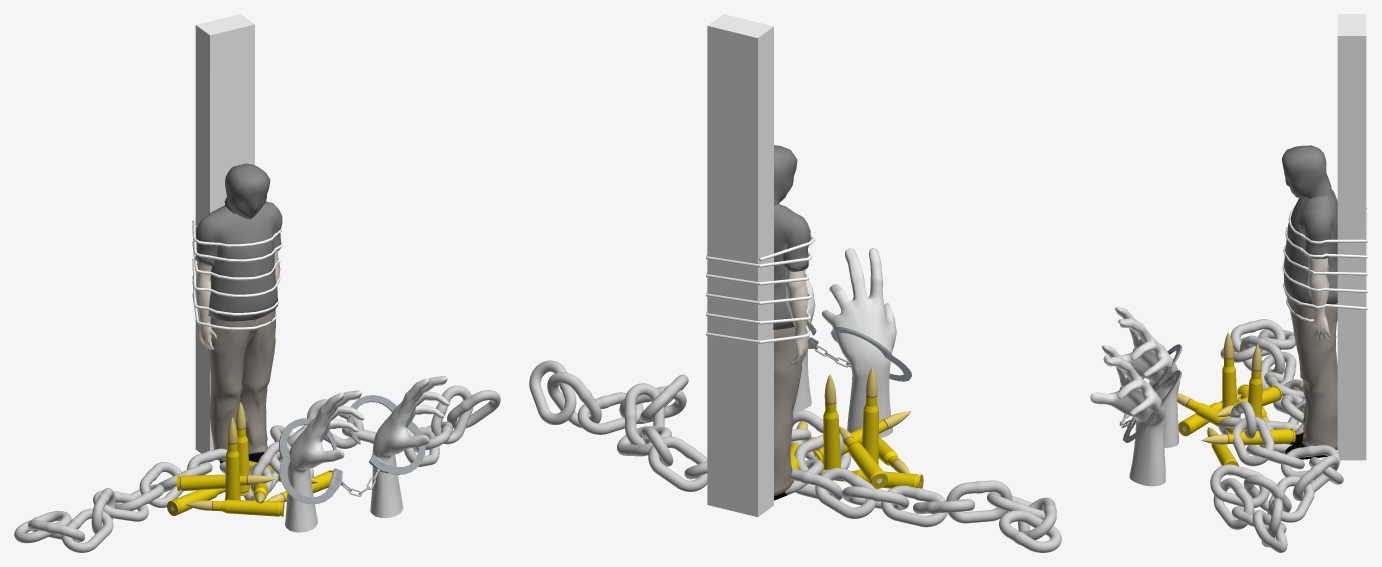
Rendered from secuestro.glb.
The picture shows the model from 3 angles, left to right: view 1: azimuth 30°, elevation 25°; view 2: azimuth 150°, elevation 25°; view 3: azimuth 270°, elevation 25°; orthographic projection. The views are drawn at different scales.
Visible parts, largest first — view 1: kidnaped, bullets, handObj, handObj.001, espo, Torus.022_Torus.023, Torus.003_Torus.004, Torus.023_Torus.024, Torus.007_Torus.008, Torus.001, Torus.004_Torus.005, Torus.000_Torus.002 (+3 smaller); view 2: kidnaped, handObj, bullets, Torus.022_Torus.023, Torus.009_Torus.010, Torus.002_Torus.003, Torus.001, Torus.006_Torus.007, Torus.005_Torus.006, Torus.023_Torus.024, Torus.019_Torus.020, Torus.021_Torus.022 (+12 smaller); view 3: kidnaped, bullets, handObj.001, handObj, Torus.018_Torus.019, espo, Torus.011_Torus.012, Torus.020_Torus.021, Torus.016_Torus.017, Torus.017_Torus.018, Torus.000_Torus.002, Torus.022_Torus.023 (+11 smaller).
Part boxes in pixels (box(x1,y1,x2,y2)): kidnaped: box(192, 14, 282, 465); bullets: box(167, 402, 332, 516); handObj: box(285, 390, 364, 532); handObj.001: box(370, 376, 449, 517); espo: box(279, 395, 425, 504); Torus.022_Torus.023: box(447, 390, 500, 428); Torus.003_Torus.004: box(61, 508, 113, 552); Torus.023_Torus.024: box(431, 385, 473, 444); Torus.007_Torus.008: box(139, 462, 182, 507); Torus.001: box(14, 511, 71, 543); Torus.004_Torus.005: box(93, 490, 148, 521); Torus.000_Torus.002: box(28, 520, 84, 542); kidnaped: box(705, 14, 815, 517); handObj: box(822, 248, 896, 437); bullets: box(790, 367, 923, 488); Torus.022_Torus.023: box(529, 360, 576, 424); Torus.009_Torus.010: box(648, 436, 707, 491); Torus.002_Torus.003: box(946, 480, 1012, 523); Torus.001: box(999, 510, 1061, 552); Torus.006_Torus.007: box(815, 468, 876, 518); Torus.005_Torus.006: box(881, 485, 947, 527); Torus.023_Torus.024: box(547, 372, 601, 428); Torus.019_Torus.020: box(624, 383, 664, 444); Torus.021_Torus.022: box(577, 392, 643, 434); kidnaped: box(1282, 14, 1367, 460); bullets: box(1177, 332, 1295, 475); handObj.001: box(1090, 345, 1166, 486); handObj: box(1103, 307, 1179, 447); Torus.018_Torus.019: box(1210, 464, 1269, 508); espo: box(1119, 344, 1182, 442); Torus.011_Torus.012: box(1231, 416, 1274, 466); Torus.020_Torus.021: box(1213, 478, 1253, 529); Torus.016_Torus.017: box(1292, 455, 1338, 500); Torus.017_Torus.018: box(1268, 476, 1314, 522); Torus.000_Torus.002: box(1230, 319, 1285, 356); Torus.022_Torus.023: box(1252, 510, 1287, 552).
Bounding box in the file's own units: 38.01 × 33.01 × 19.23.
Materials: 21 (3 with a texture image).
